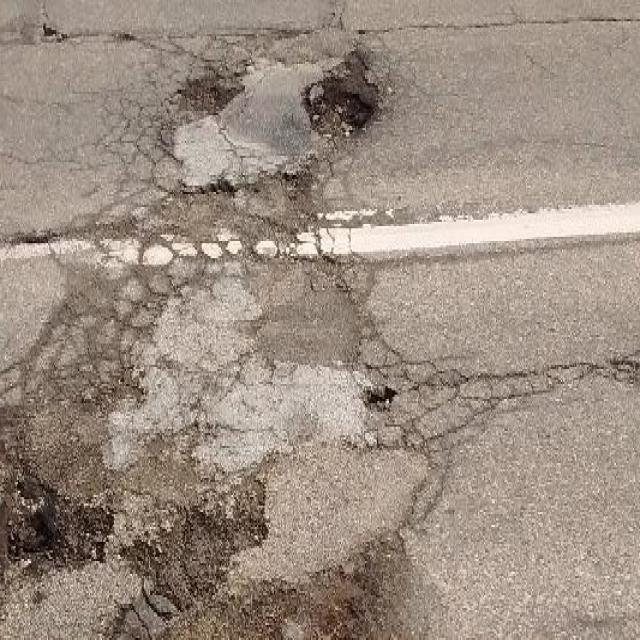Pothole: (140, 505, 271, 612), (7, 475, 120, 571), (303, 56, 382, 142), (179, 69, 245, 123), (365, 381, 401, 415)
